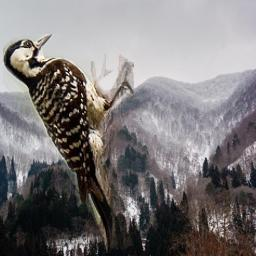Woodpecker: (3, 34, 134, 253)
